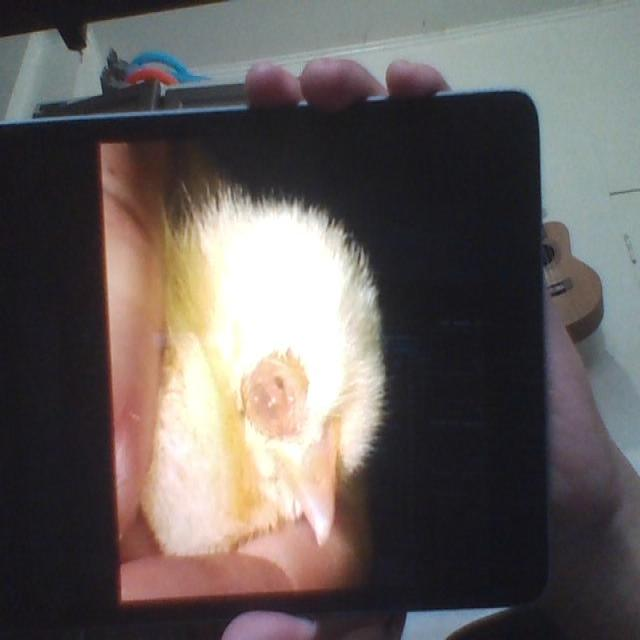Sick: (132, 188, 392, 572)
